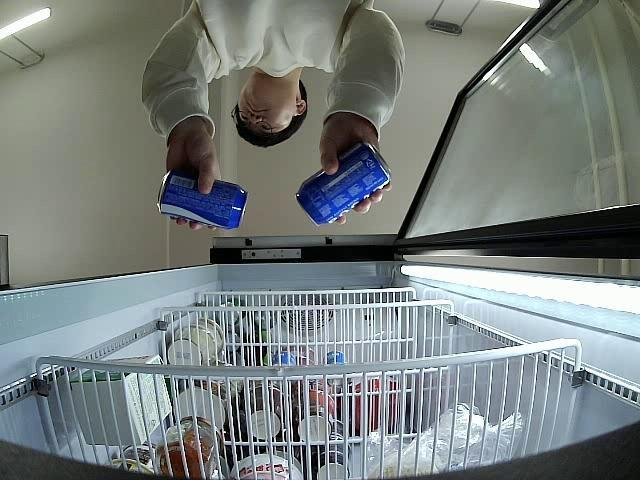13_pocariSweat: (294, 142, 390, 227), (155, 170, 248, 232)
